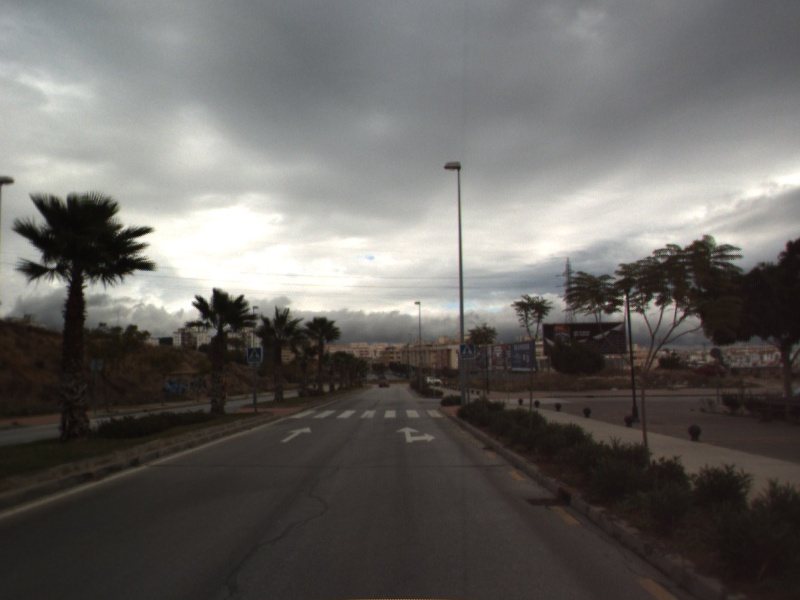STRAIGHT: (279, 425, 313, 444)
STRAIGHT_RIGHT: (394, 424, 437, 445)
